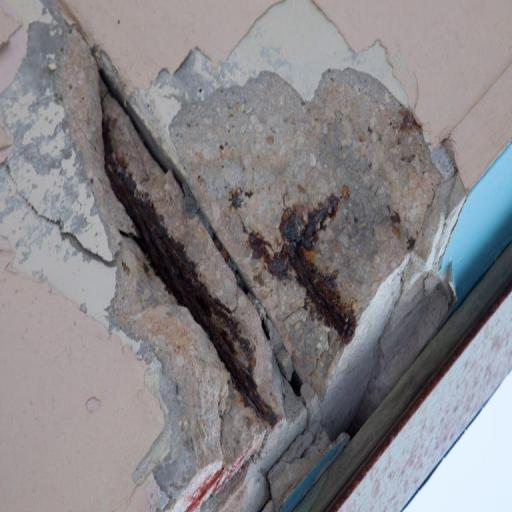spalling: (59, 33, 469, 500)
